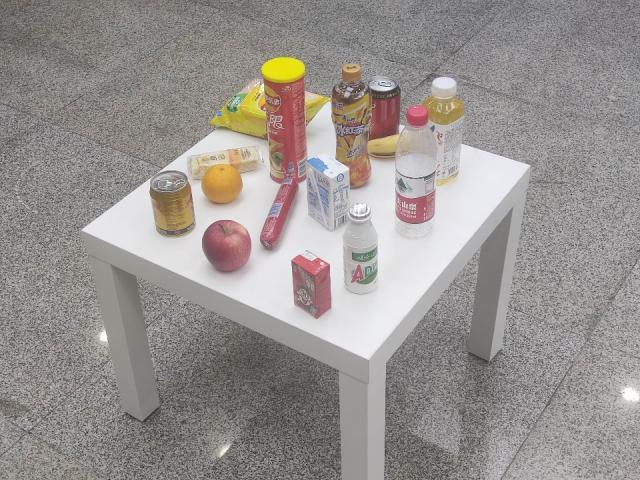Canned_drinks: (147, 168, 196, 238), (365, 76, 401, 137)
bottle: (382, 100, 442, 243)
cylinder: (261, 55, 310, 184)
drink_box: (302, 148, 352, 234), (285, 247, 337, 322)
